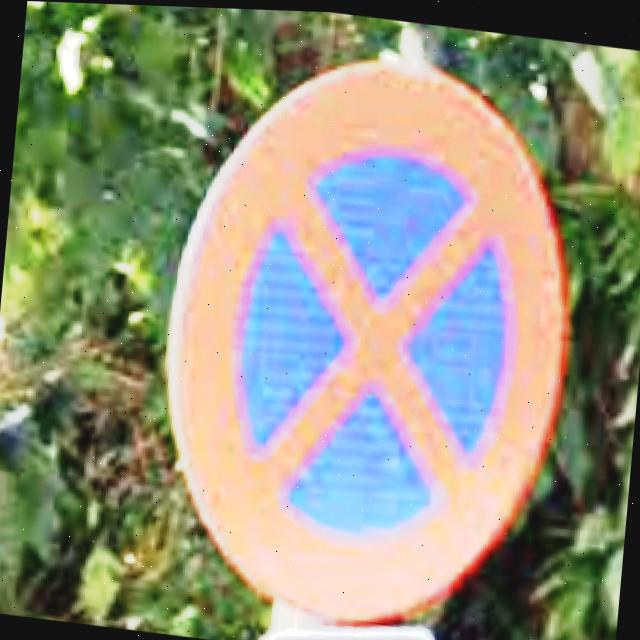nopark: (167, 56, 564, 622)
